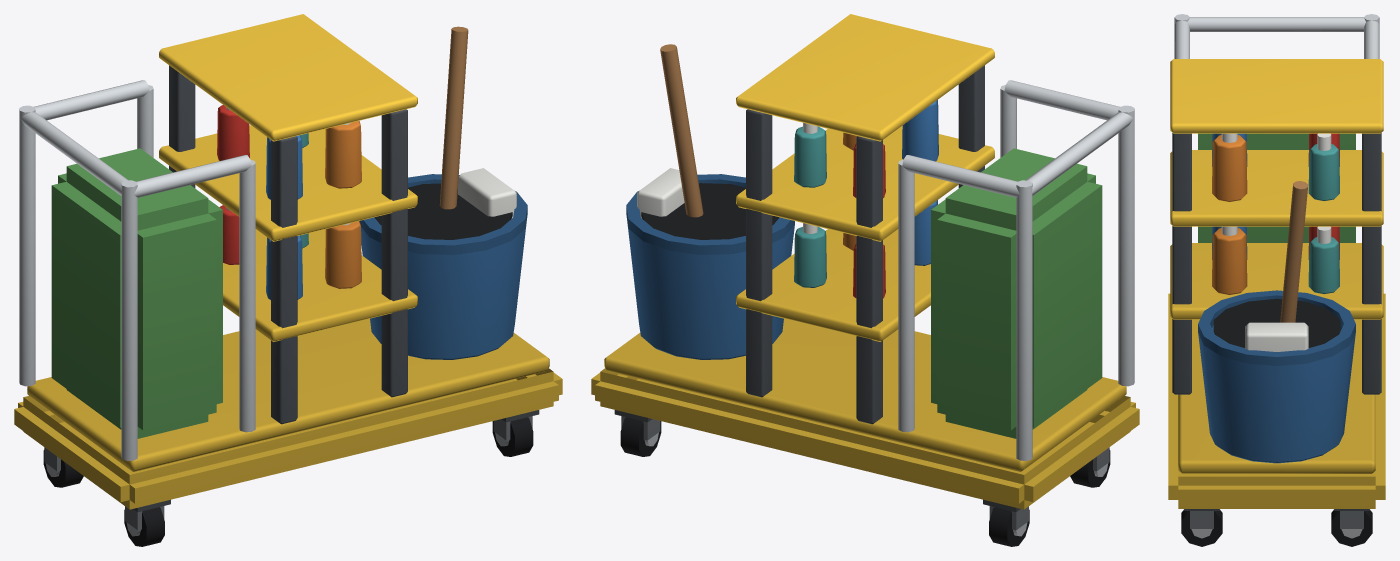
Rendered from JanitorCart_01.glb.
3 renders of one model, left to right at view 1: azimuth 30°, elevation 25°; view 2: azimuth 150°, elevation 25°; view 3: azimuth 270°, elevation 25°, orthographic. The views are drawn at different scales.
Parts seen in each view (by area): view 1: SM_JanitorCart_01; view 2: SM_JanitorCart_01; view 3: SM_JanitorCart_01.
Boxes of the visible parts, left/top/right/bottom form: SM_JanitorCart_01: left=14, top=14, right=562, bottom=546; SM_JanitorCart_01: left=591, top=14, right=1139, bottom=546; SM_JanitorCart_01: left=1168, top=14, right=1385, bottom=546.
Size of the model in its own units: 1.22 by 1.03 by 0.55.
1 material, 1 textured.
